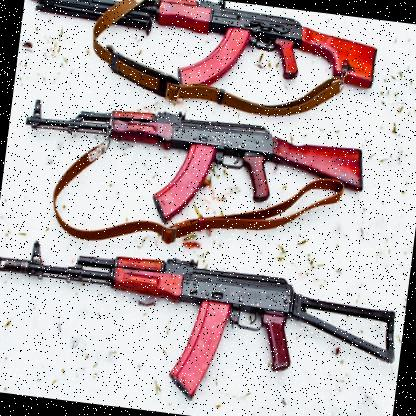rifle: (0, 221, 400, 416), (13, 82, 376, 256), (13, 0, 379, 128)
